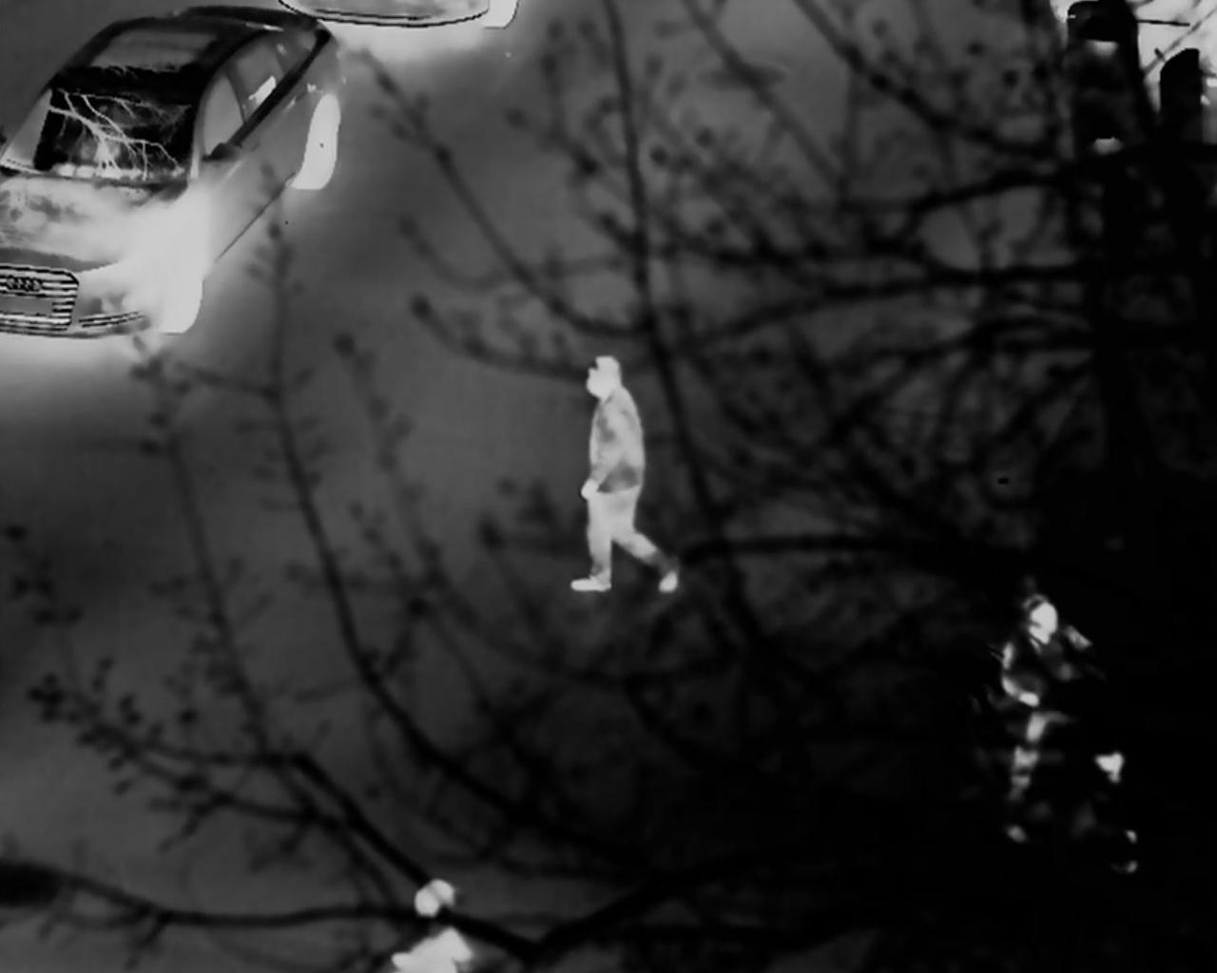person: (995, 598, 1099, 842), (571, 350, 671, 593), (394, 874, 456, 968)
